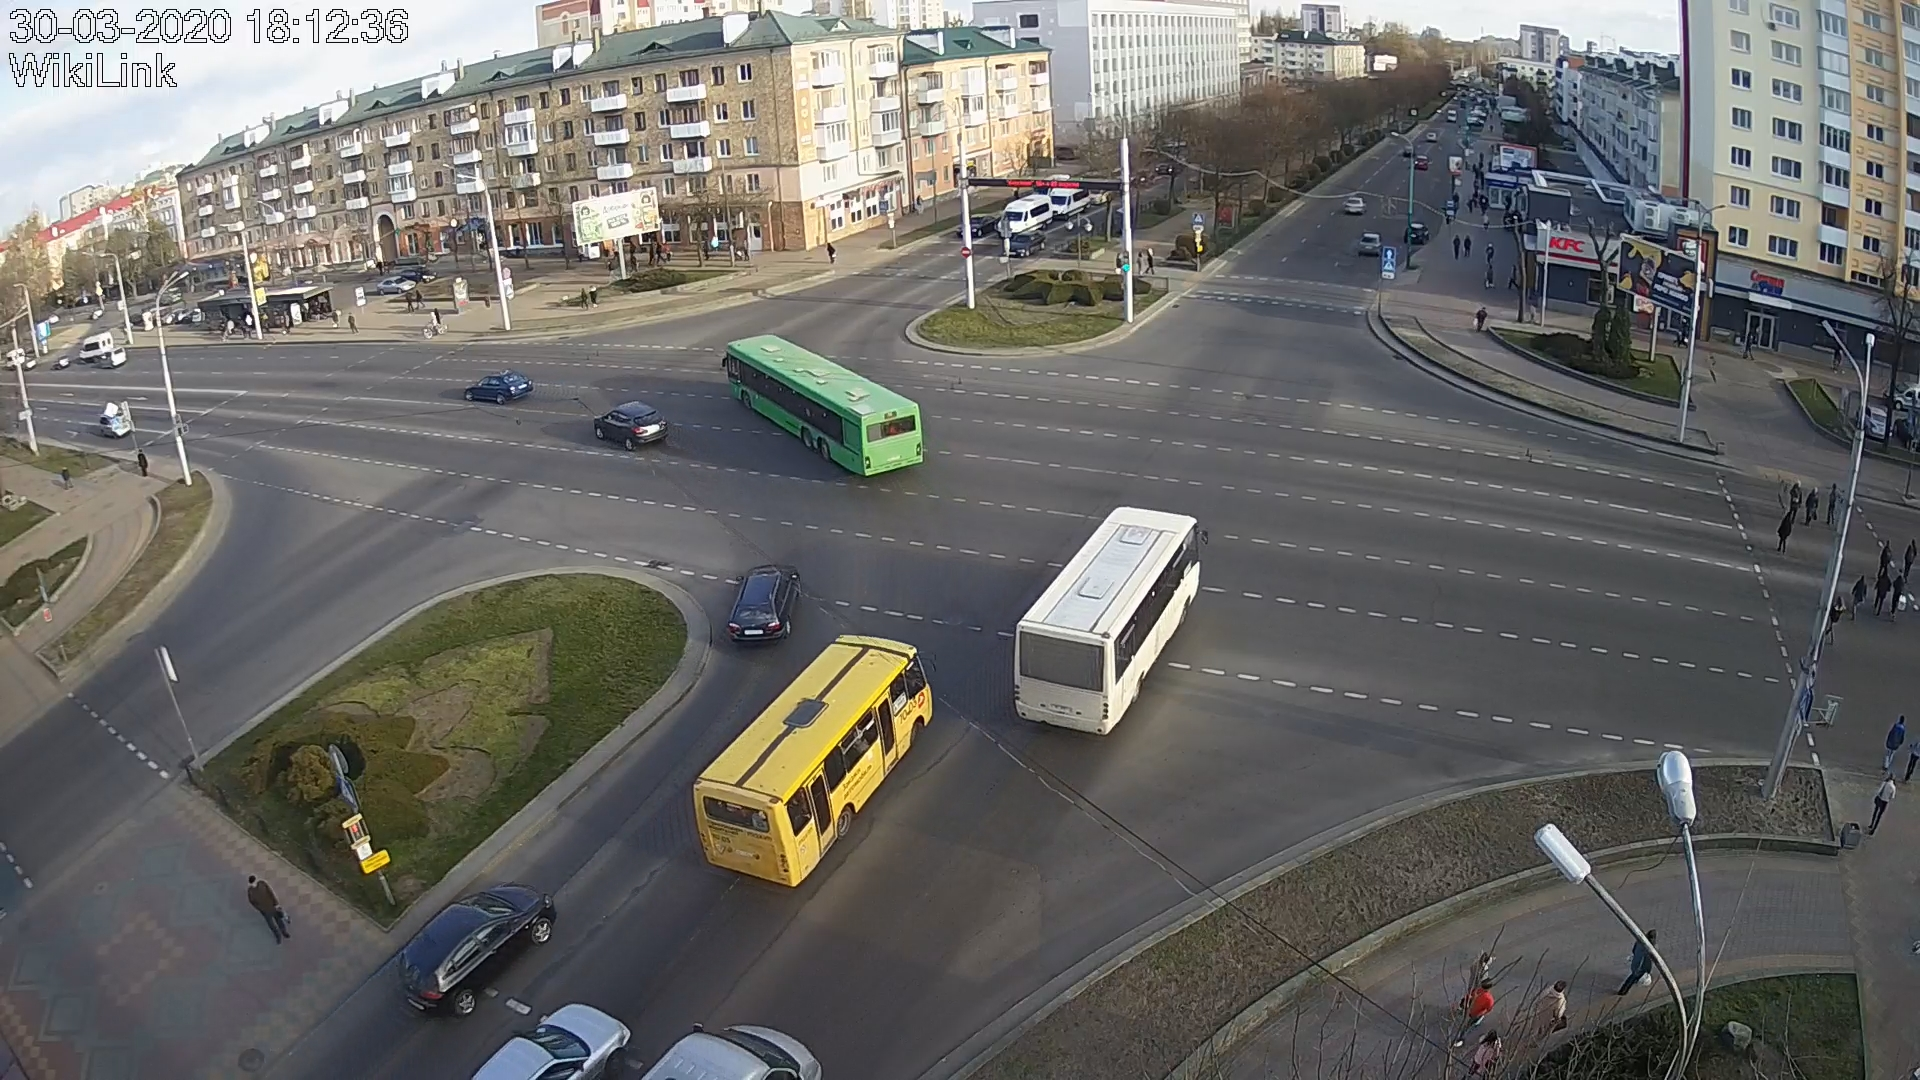bus: (694, 636, 932, 886), (1011, 505, 1211, 736), (720, 334, 924, 475)
car: (398, 881, 558, 1019), (725, 562, 800, 644), (593, 400, 669, 450), (997, 194, 1054, 237), (464, 371, 533, 405), (1007, 229, 1047, 256), (957, 214, 998, 239)
